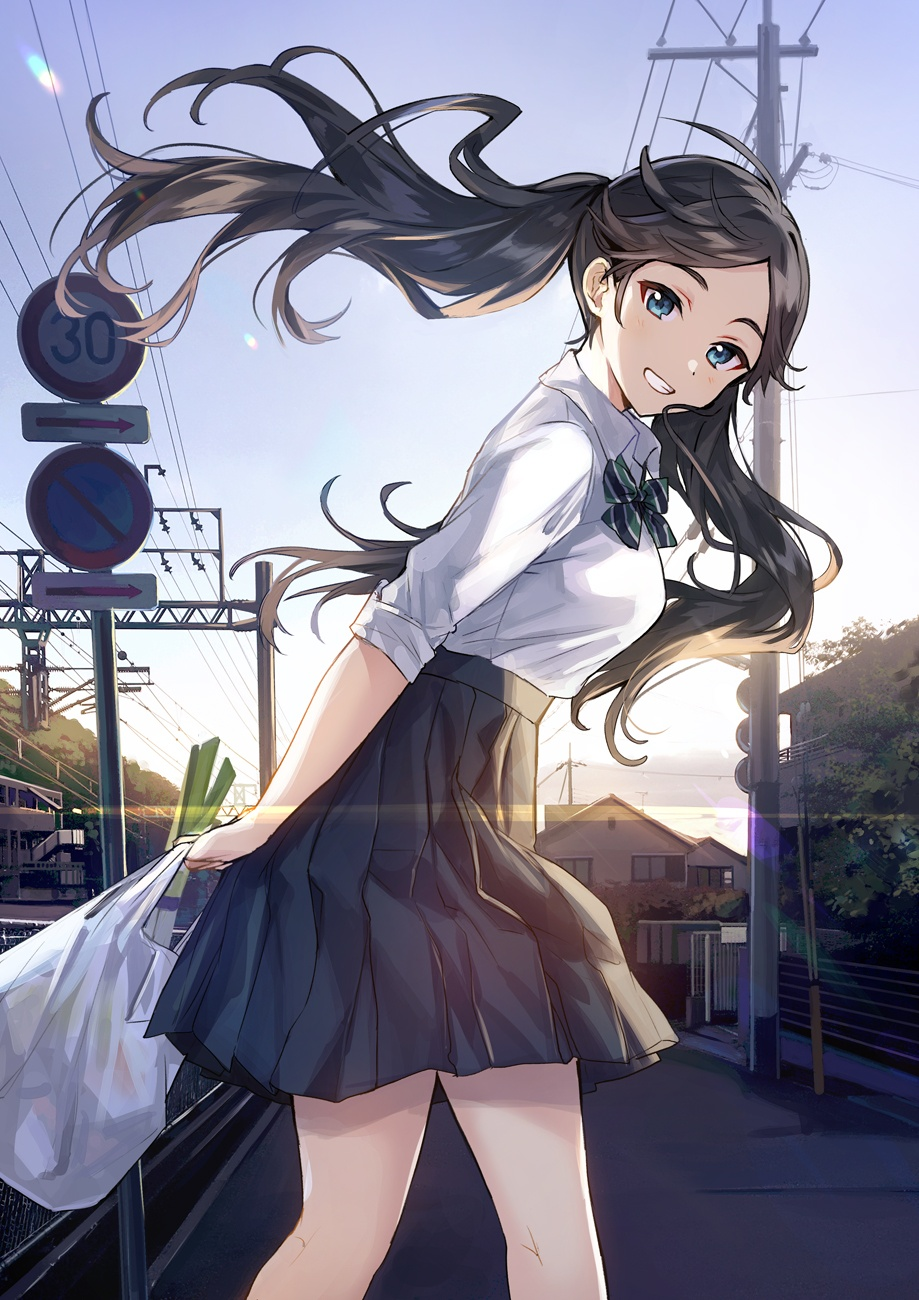纸片人正脸: (556, 152, 804, 426)
